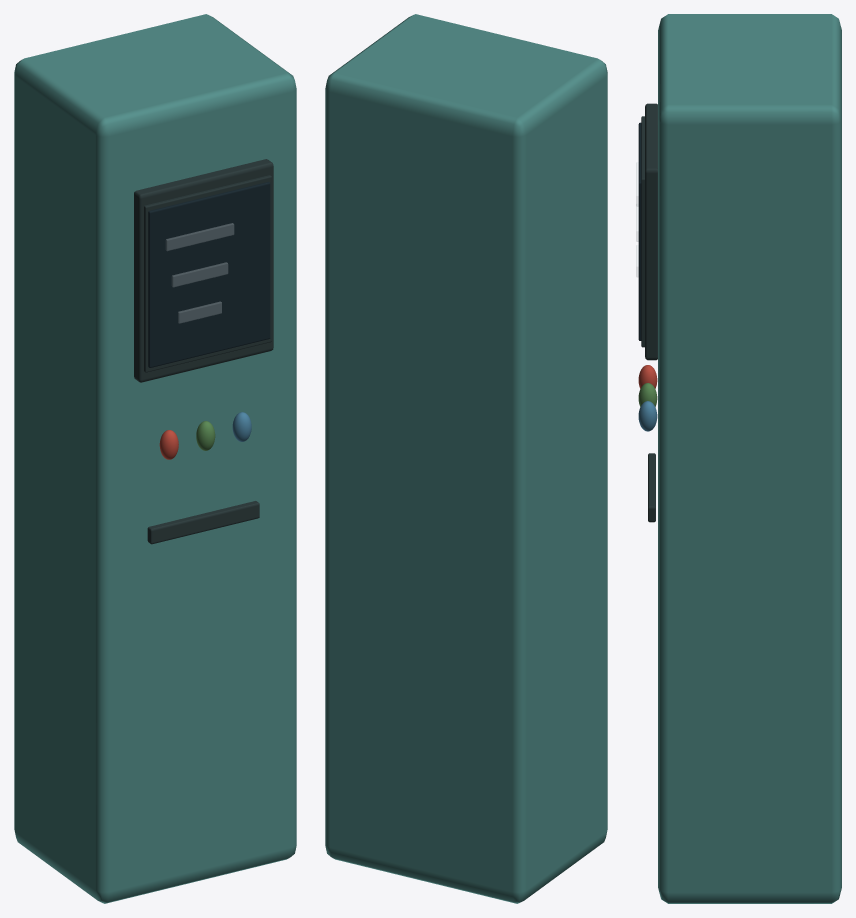
The model's file is wp-horodateur.glb.
3 views of the same model, side by side, from view 1: azimuth 30°, elevation 25°; view 2: azimuth 150°, elevation 25°; view 3: azimuth 270°, elevation 25° (orthographic).
Visible parts, largest first — view 1: wp-horodateur; view 2: wp-horodateur; view 3: wp-horodateur.
Boxes of the visible parts, x1,y1,x2,y2 form: wp-horodateur: (14, 14, 296, 903); wp-horodateur: (325, 14, 607, 903); wp-horodateur: (636, 14, 841, 903).
Size of the model in its own units: 0.4 by 1.5 by 0.35.
